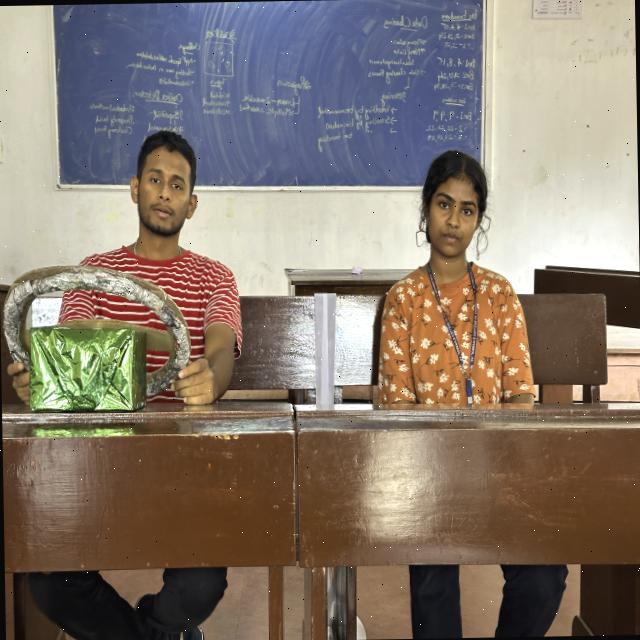Helmet: (53, 250, 242, 408), (368, 260, 538, 406)
